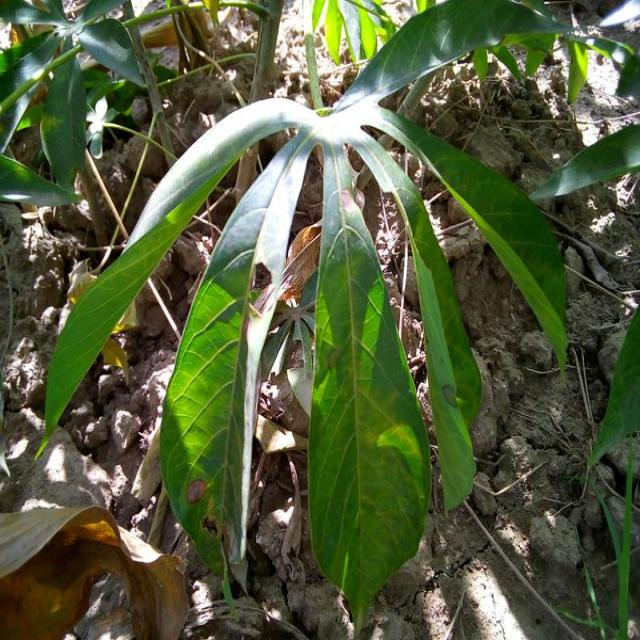cassava leaf: (32, 0, 637, 633), (306, 181, 432, 634)
